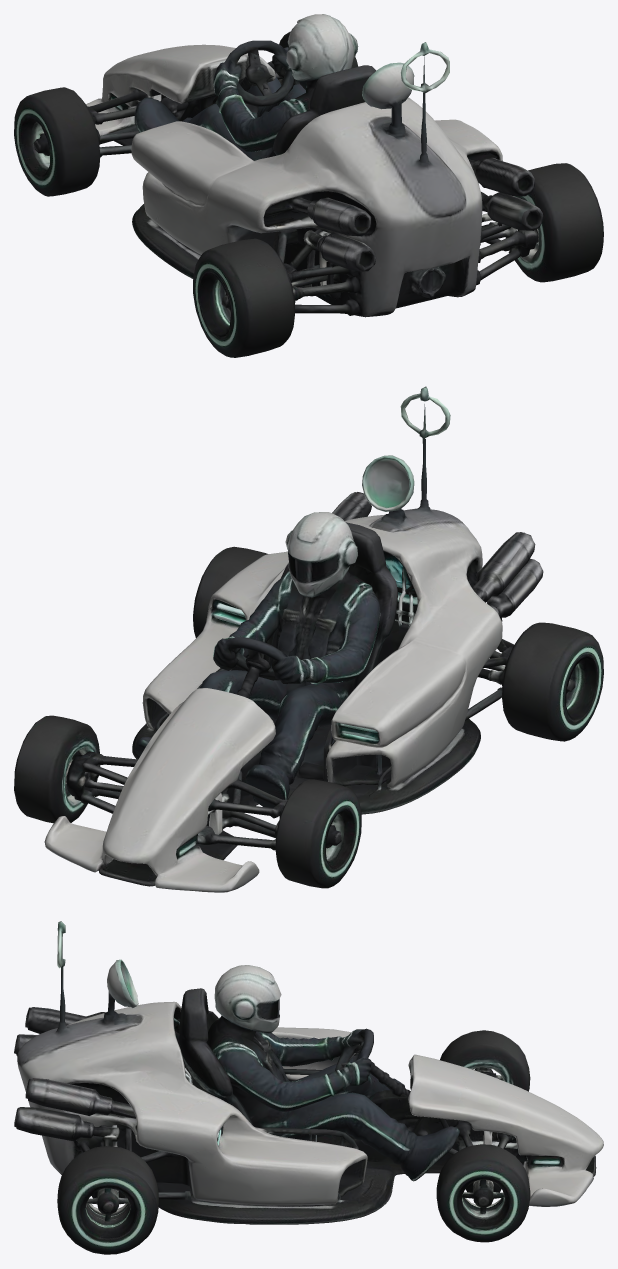
Rendered from aether-final.glb.
3 views of the same model, one above another, from view 1: azimuth 30°, elevation 25°; view 2: azimuth 150°, elevation 25°; view 3: azimuth 270°, elevation 25° (orthographic). The views are drawn at different scales.
Visible parts, largest first — view 1: chassis, wheel-rl, wheel-fl, wheel-rr; view 2: chassis, wheel-rl, wheel-fl, wheel-fr, wheel-rr; view 3: chassis, wheel-rr, wheel-fr, wheel-fl.
Boxes of the visible parts, bbox=[...] form: chassis: bbox=[86, 14, 543, 317]; wheel-rl: bbox=[193, 238, 294, 357]; wheel-fl: bbox=[14, 87, 100, 196]; wheel-rr: bbox=[505, 163, 603, 282]; chassis: bbox=[44, 386, 543, 892]; wheel-rl: bbox=[502, 622, 603, 741]; wheel-fl: bbox=[275, 779, 361, 888]; wheel-fr: bbox=[14, 715, 99, 823]; wheel-rr: bbox=[193, 546, 268, 637]; chassis: bbox=[14, 921, 603, 1224]; wheel-rr: bbox=[57, 1146, 158, 1254]; wheel-fr: bbox=[436, 1144, 530, 1242]; wheel-fl: bbox=[440, 1030, 530, 1091].
Bounding box in the file's own units: 2.88 × 2.17 × 4.5.
Materials: 1 (1 with a texture image).
